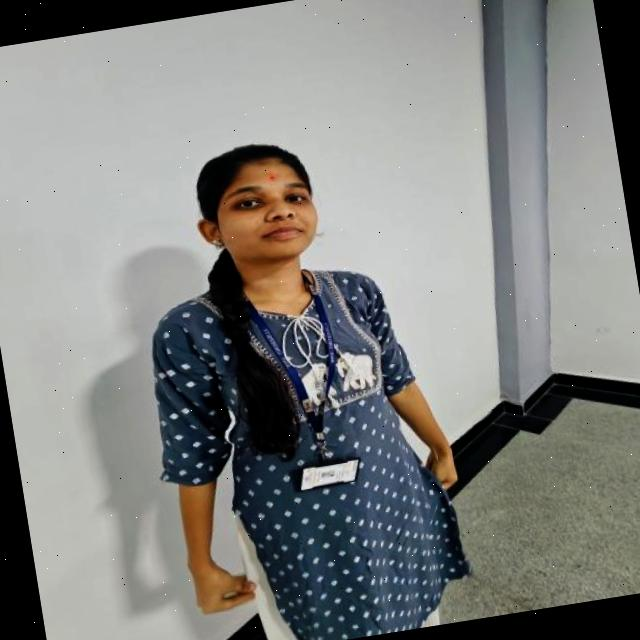Card: (300, 458, 359, 491)
Id strap: (246, 299, 322, 444)
